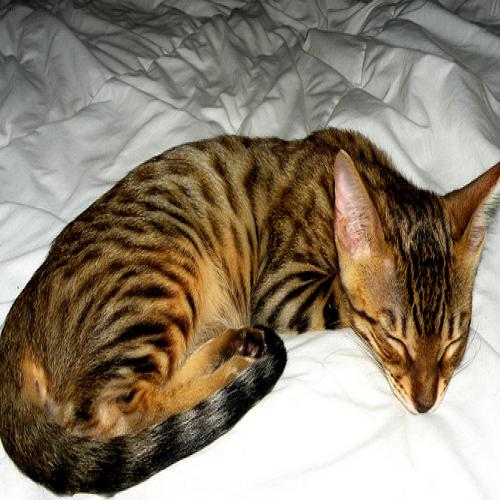cat-face: (327, 145, 500, 423)
